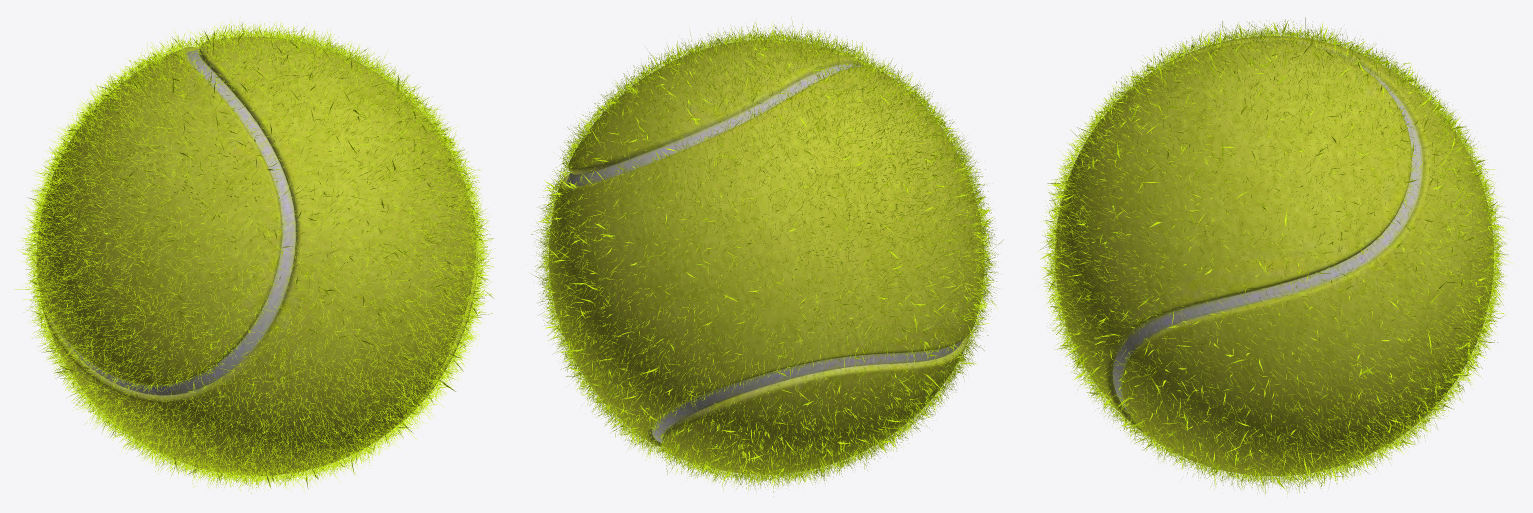
File: ball_fuzz_0.12.glb
The picture shows the model from 3 angles, left to right: view 1: azimuth 30°, elevation 25°; view 2: azimuth 150°, elevation 25°; view 3: azimuth 270°, elevation 25°; orthographic projection.
Visible parts, largest first — view 1: Object_2; view 2: Object_2; view 3: Object_2.
Part boxes in pixels (bbox=[...]): Object_2: bbox=[14, 21, 493, 493]; Object_2: bbox=[531, 19, 1003, 496]; Object_2: bbox=[1039, 17, 1512, 494].
Size of the model in its own units: 0.067 by 0.0668 by 0.0667.
Materials: 2 (1 with a texture image).
